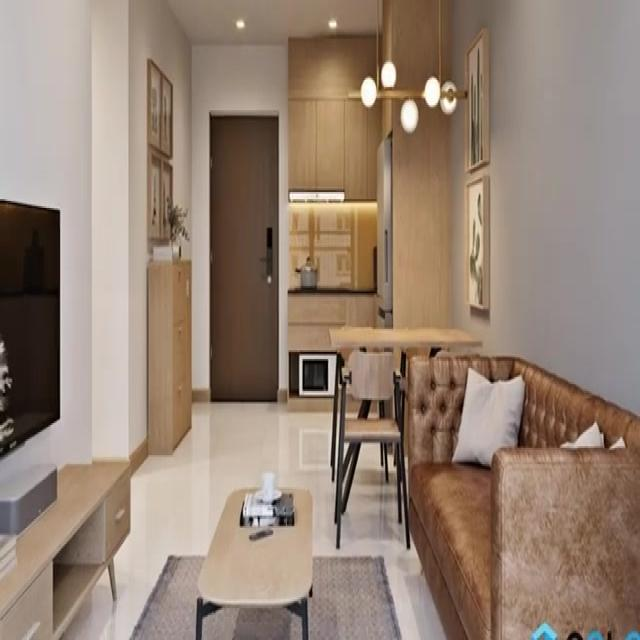door: (209, 112, 278, 400)
obstacle: (404, 352, 639, 638), (0, 459, 131, 638), (195, 484, 313, 638), (337, 353, 412, 547), (147, 258, 192, 455)
